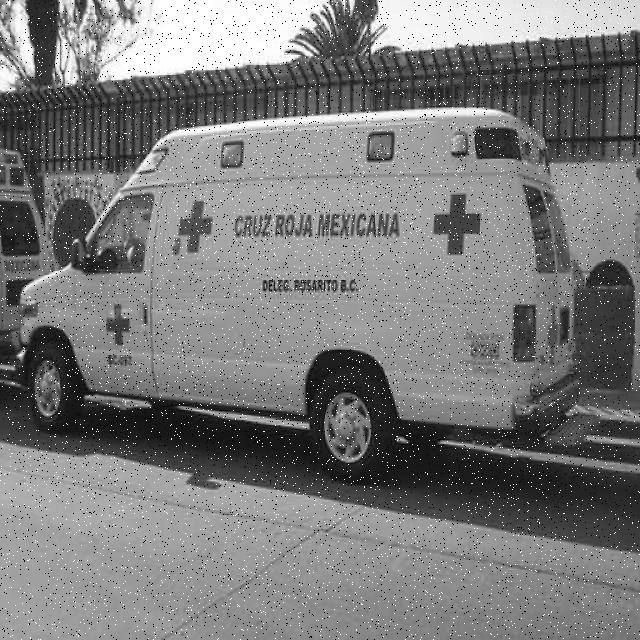Ambulance: (17, 106, 583, 486)
